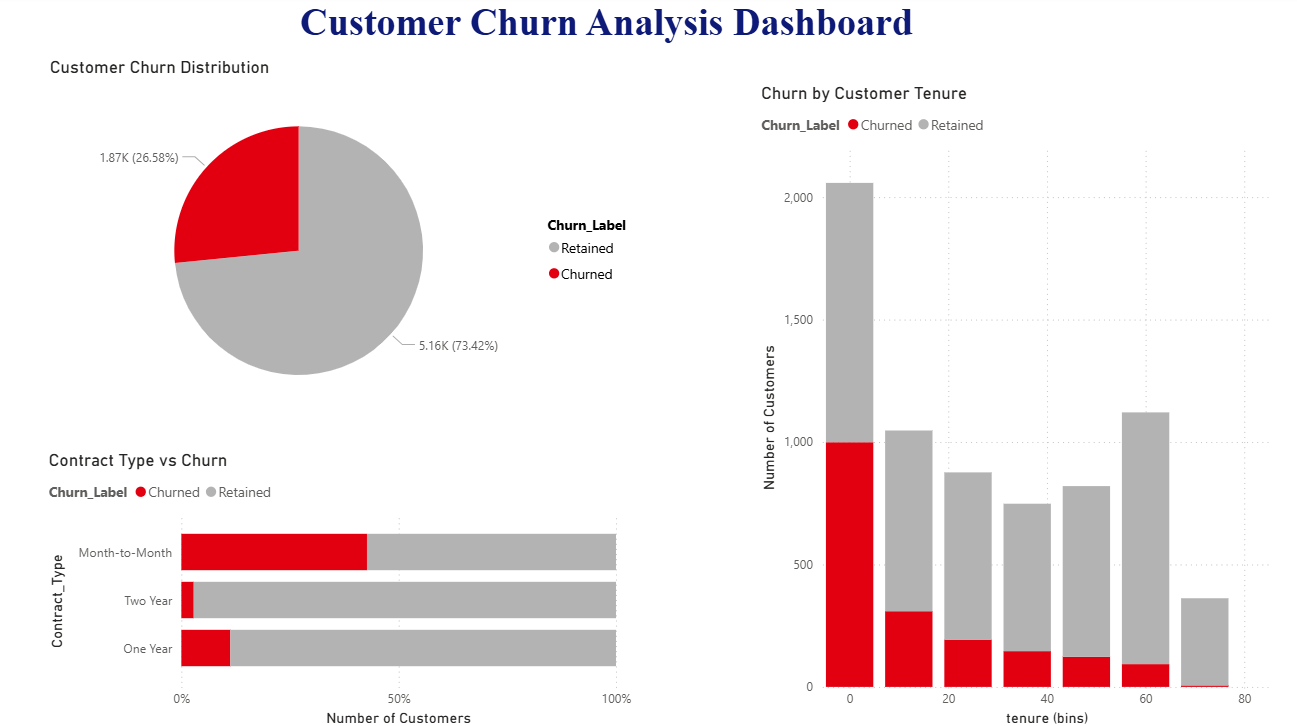

The page's visual inventory and layout, read from the dashboard file:
{"tool":"powerbi","page":{"name":"Page 1","canvas":[1280,720],"ordinal":0},"visuals":[{"type":"pieChart","title":"Customer Churn Distribution","fields":{"Category":["churn_cleaned_data.Churn_Label"],"Y":["CountNonNull(churn_cleaned_data.Churn)"]},"box":[48.3,60,591.7,360],"z":0},{"type":"hundredPercentStackedBarChart","title":"Contract Type vs Churn","fields":{"Category":["churn_cleaned_data.Contract_Type"],"Series":["churn_cleaned_data.Churn_Label"],"Y":["CountNonNull(churn_cleaned_data.Churn)"]},"box":[47.5,445,580,275],"z":1},{"type":"textbox","box":[293.3,0,693.3,60],"z":2},{"type":"columnChart","title":"Churn by Customer Tenure","fields":{"Category":["churn_cleaned_data.tenure (bins)"],"Series":["churn_cleaned_data.Churn_Label"],"Y":["CountNonNull(churn_cleaned_data.Churn_Label)"]},"box":[745,85,508.3,635],"z":3}]}

Visuals, with their boxes in screenshot pixels (x1, y1, x2, y2), scaled from the page's 1280x720 canvas onto the 1297x726 screenshot:
"Customer Churn Distribution" pieChart: box(49, 60, 648, 424)
"Contract Type vs Churn" hundredPercentStackedBarChart: box(48, 449, 636, 725)
textbox: box(297, 0, 1000, 60)
"Churn by Customer Tenure" columnChart: box(755, 86, 1270, 725)
